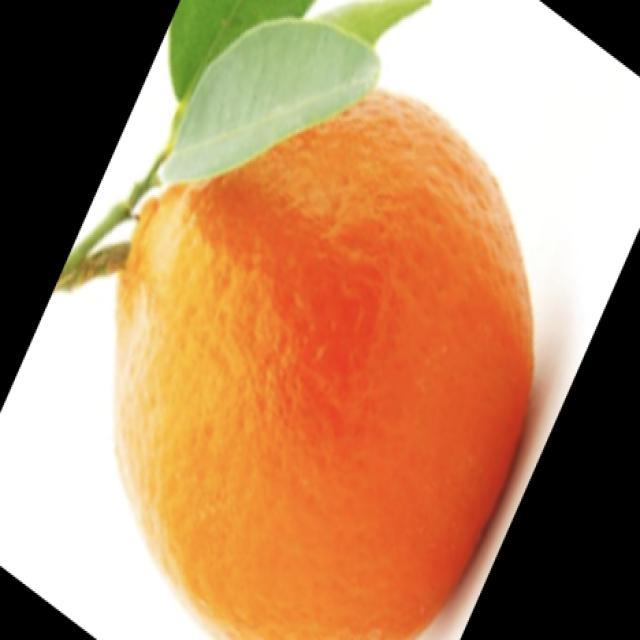Orange: (111, 86, 536, 639)
